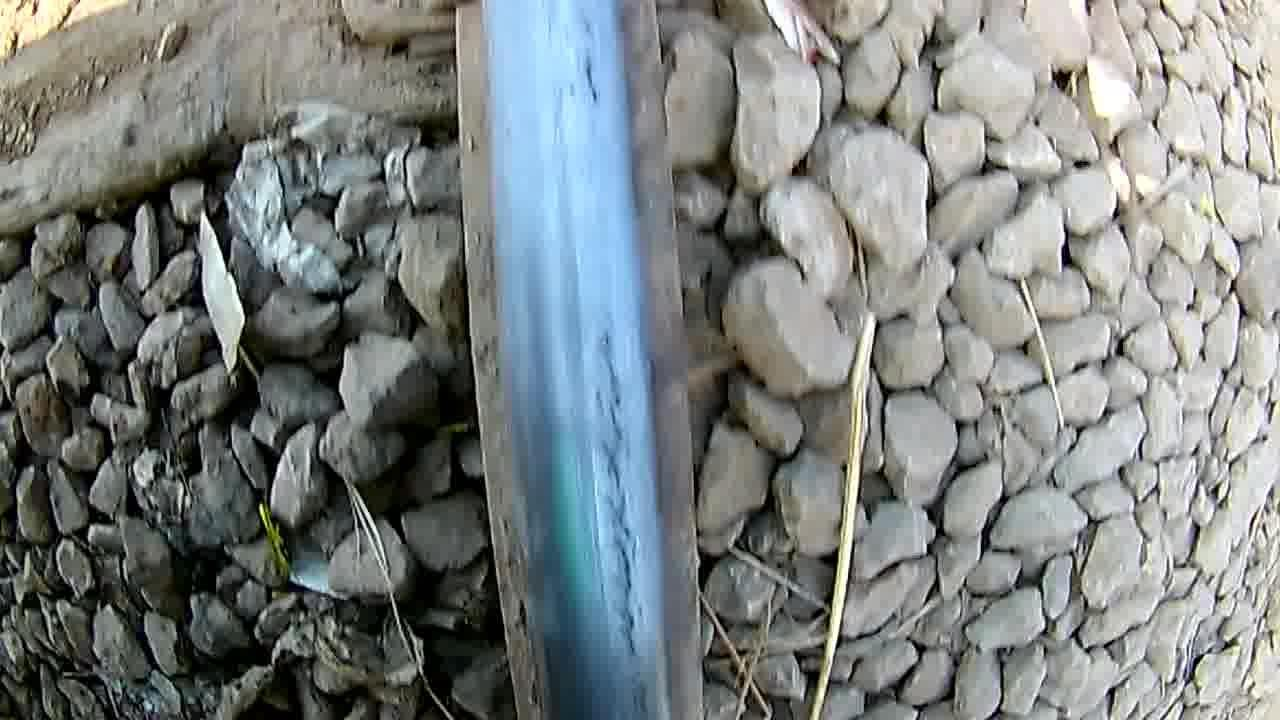crack: (540, 30, 641, 657)
